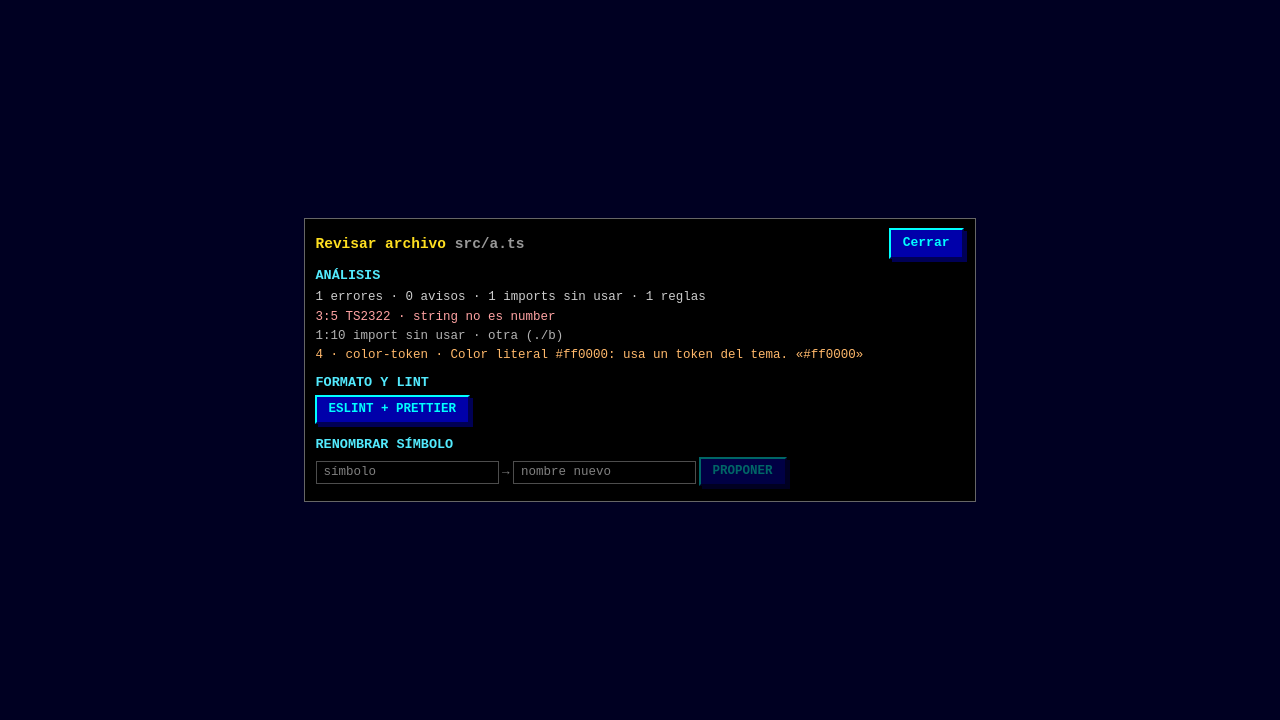
Test: CodeReviewModal › no deja aplicar un renombrado que deja errores de tipos
Expected: the list item "3:5 TS2322 · string no es number" is shown, [316, 310, 556, 324]
Type "viejo" into the field with test id "review-symbol".
click(407, 473); type("viejo")  # box [316, 461, 498, 484]
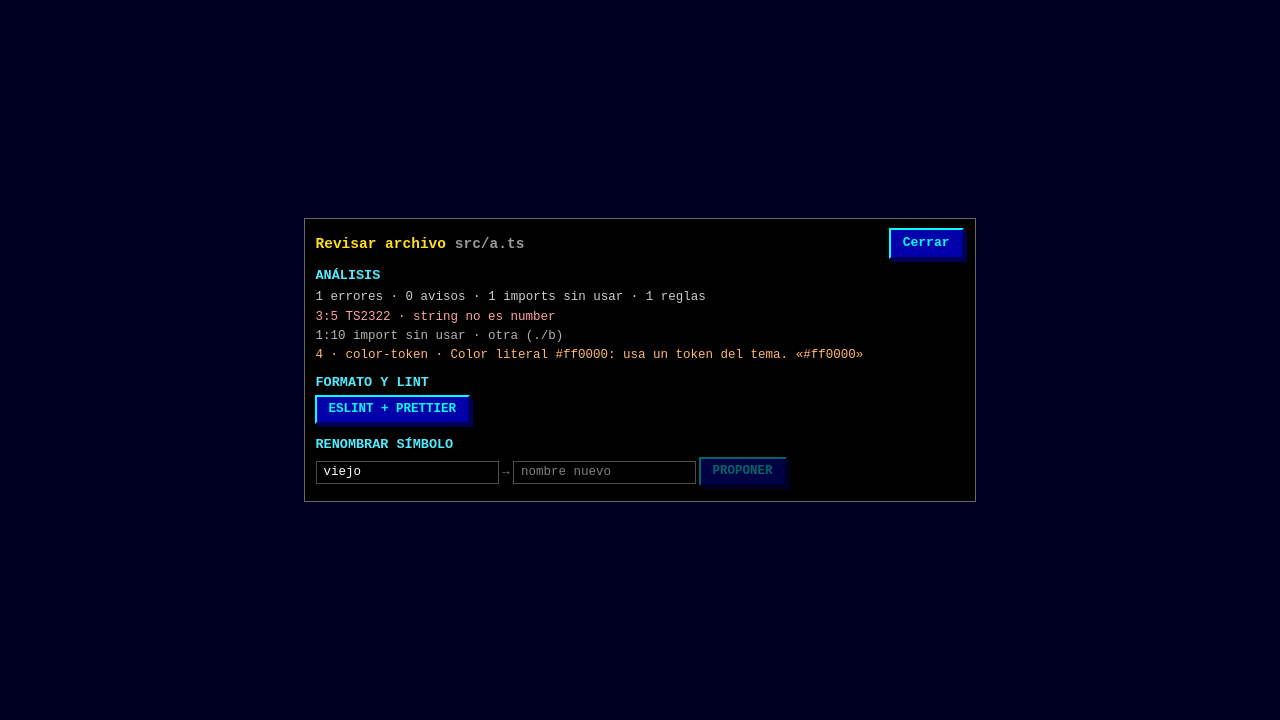
Type "nuevo" into the field with test id "review-new-name".
click(604, 473); type("nuevo")  # box [513, 461, 696, 484]
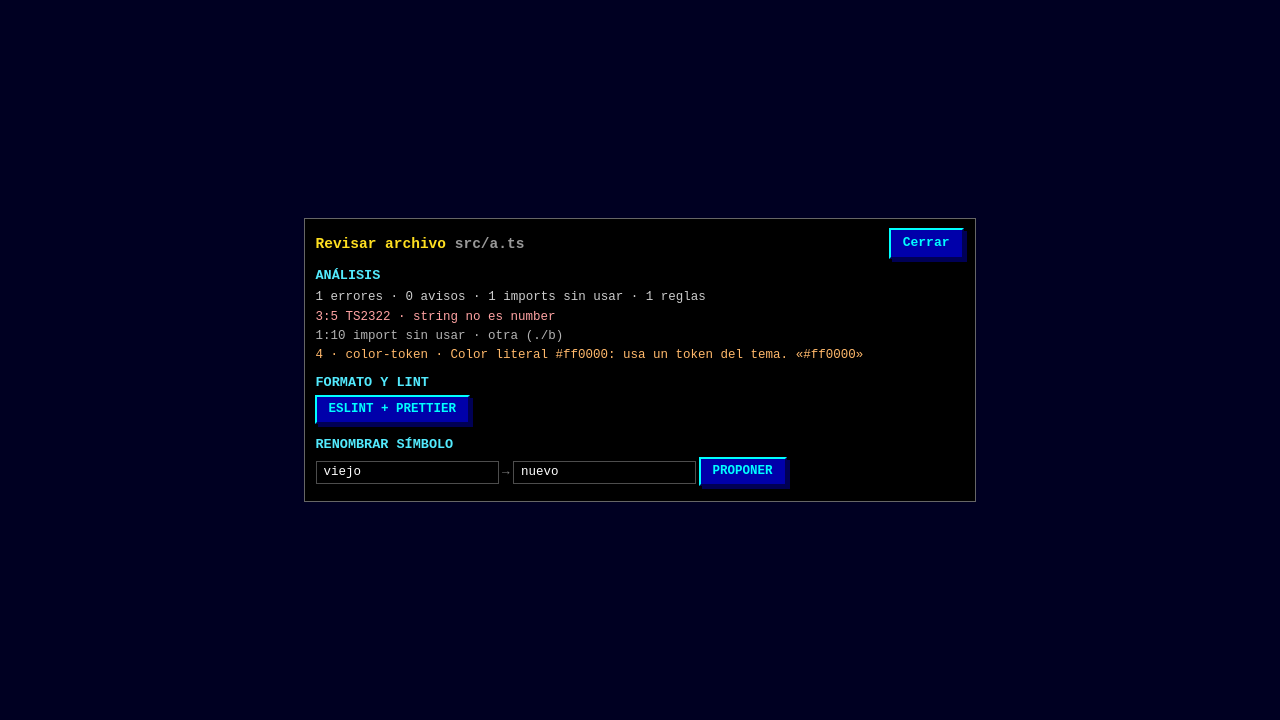
Click the button with test id "review-plan-rename".
click(742, 472)  # box [698, 457, 786, 486]
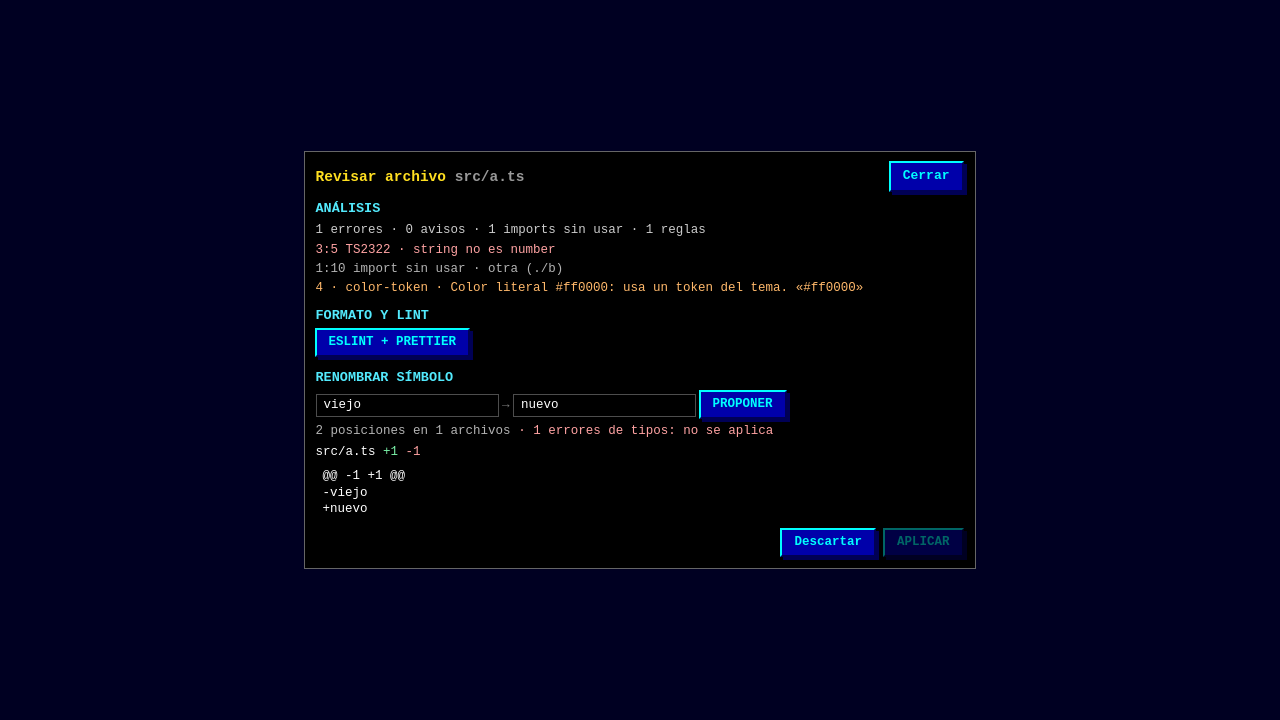
Now the text "· 1 errores de tipos: no se aplica" is shown, box [511, 424, 773, 438]
Now the button with test id "review-apply-rename" is disabled, box [883, 528, 964, 557]
